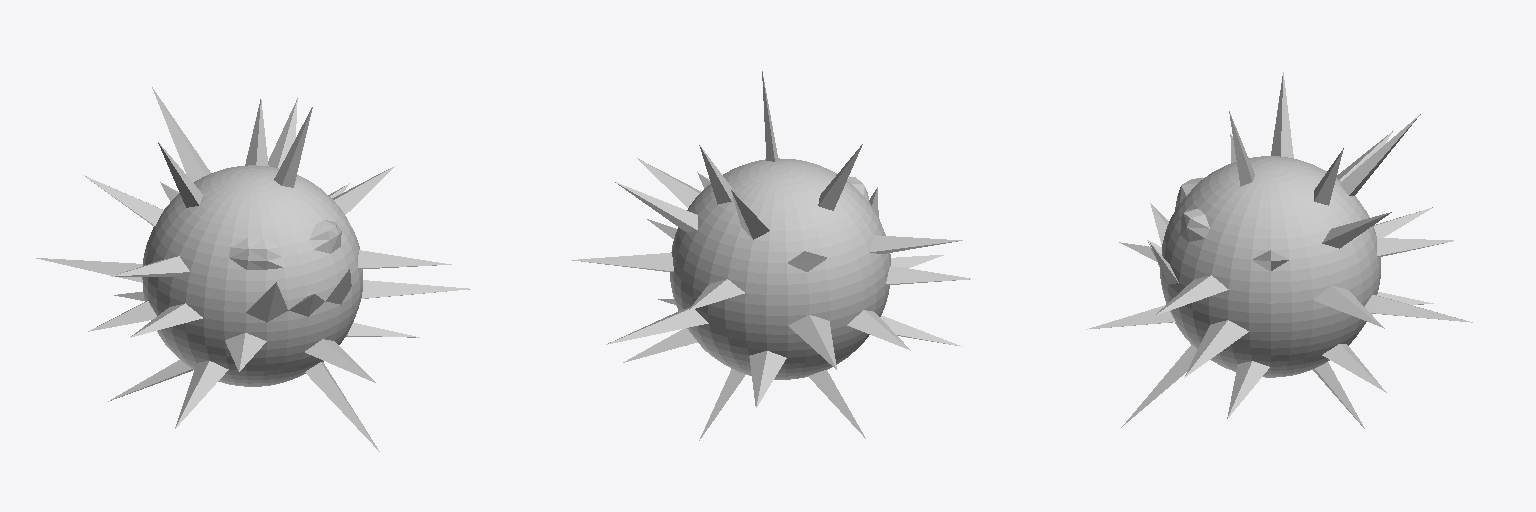
The model's file is Large Enemy.obj.
3 views of the same model, side by side, from view 1: azimuth 30°, elevation 25°; view 2: azimuth 150°, elevation 25°; view 3: azimuth 270°, elevation 25° (orthographic).
Parts seen in each view (by area): view 1: Sphere; view 2: Sphere; view 3: Sphere.
Part boxes in pixels (bbox=[...]): Sphere: bbox=[36, 87, 469, 451]; Sphere: bbox=[572, 71, 970, 440]; Sphere: bbox=[1086, 72, 1472, 428].
Size of the model in its own units: 3.56 by 3.22 by 3.51.